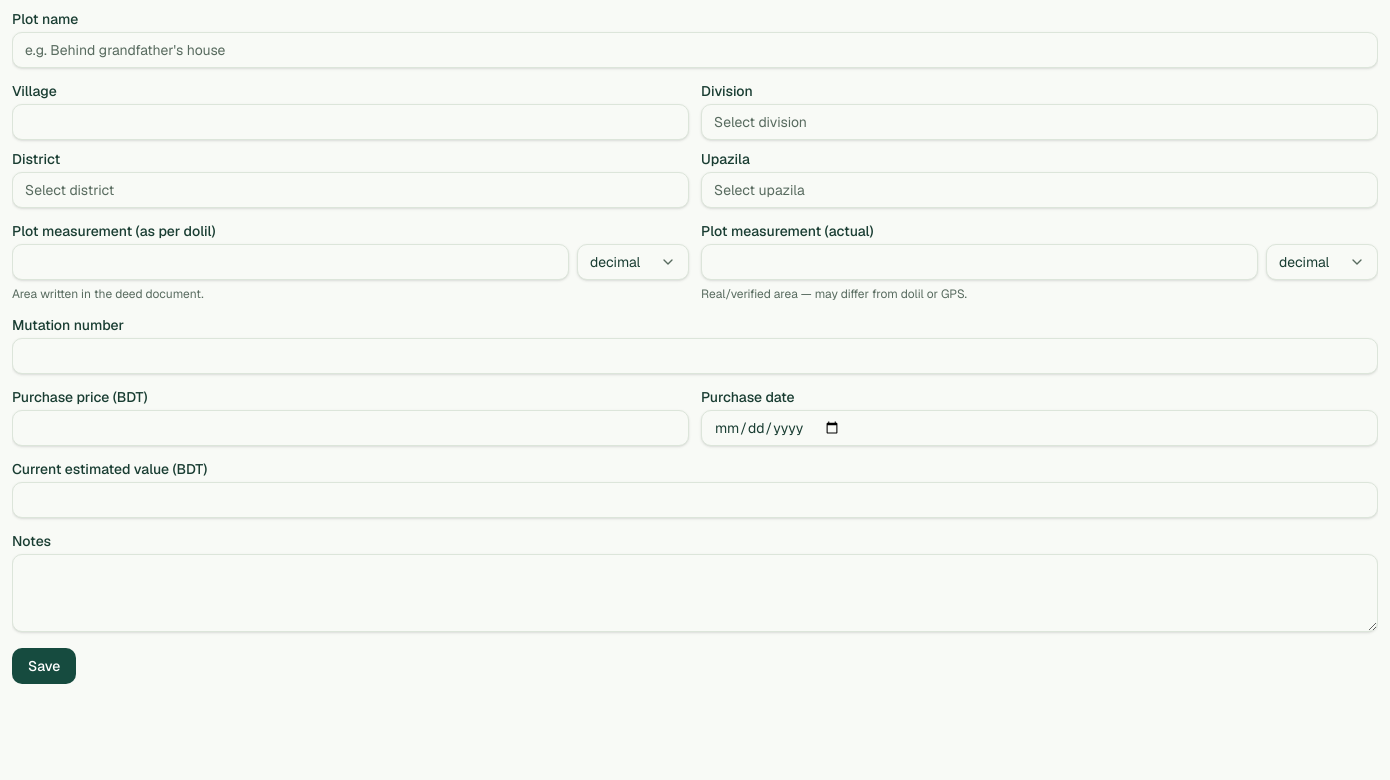
Test: PlotMetadataForm — plaintext, unencrypted record, no session › shows the server action's error message
In the field labelled "Plot name": (695, 50) [12, 32, 1378, 68], type "New Plot"
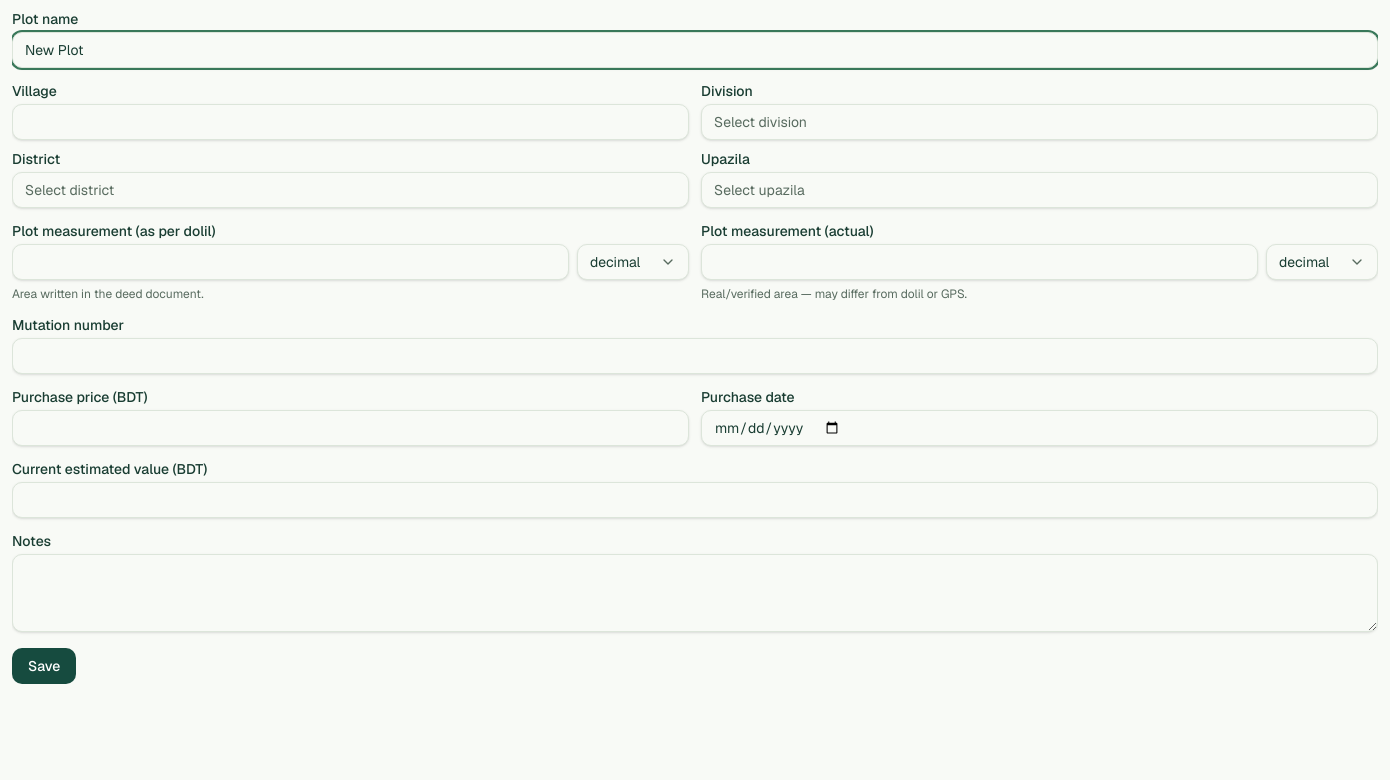
Click the button "Save": click(44, 666) [12, 648, 76, 684]
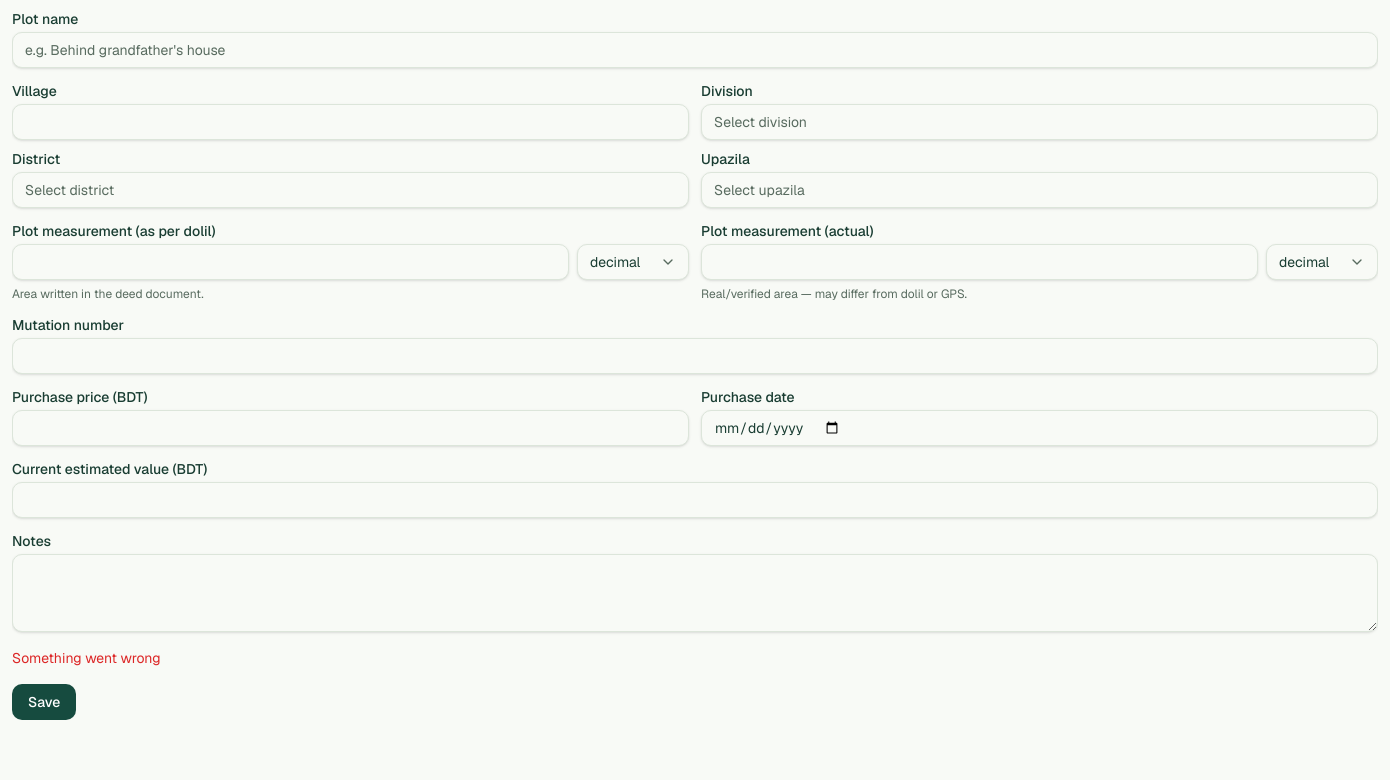
Expected: the text "Something went wrong" is shown, [12, 649, 161, 667]
